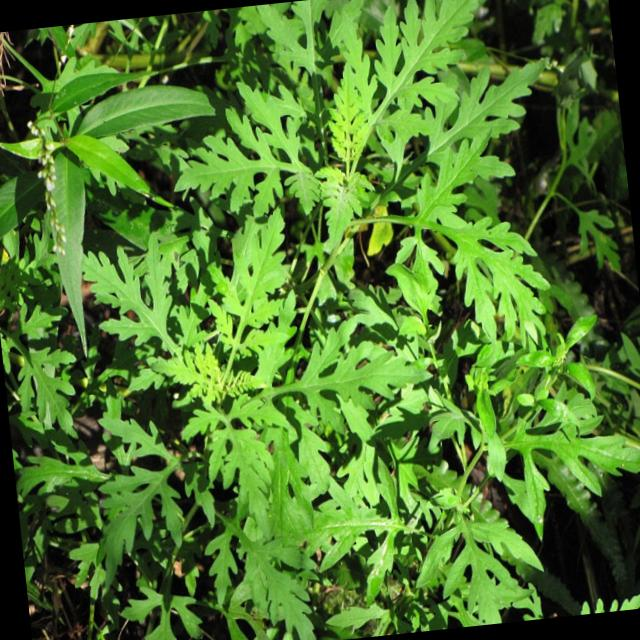ambrosia: (82, 211, 402, 532), (242, 7, 496, 286)
